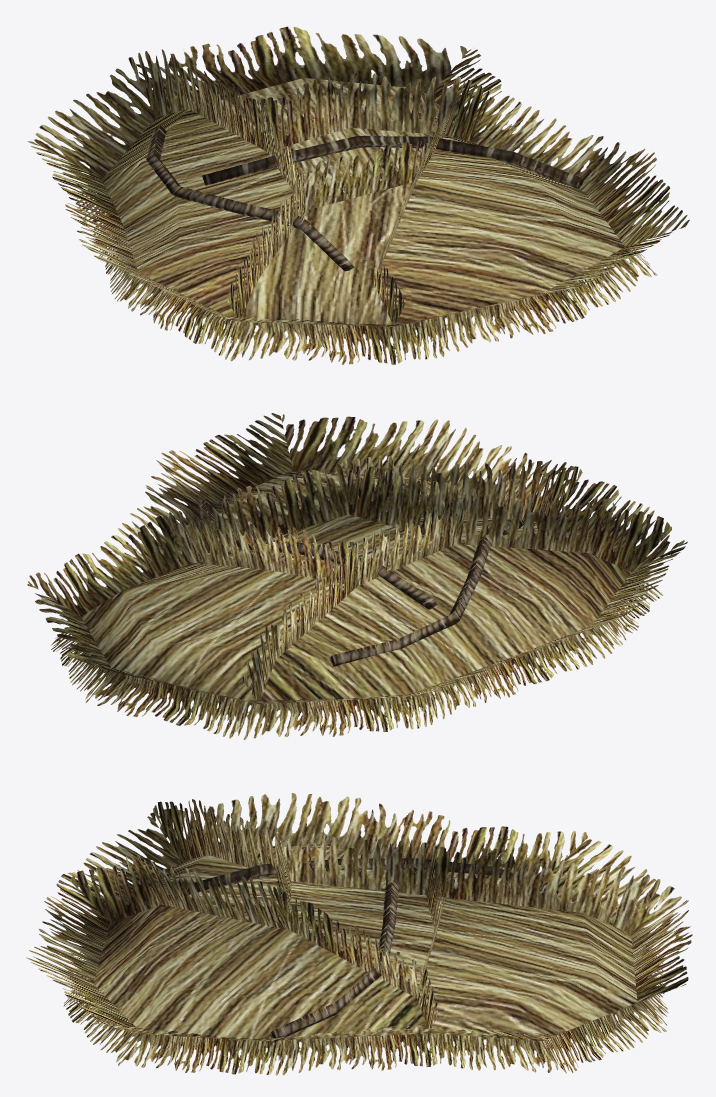
File: KM_STRAW_DESTROYED.glb
3 renders of one model, top to bottom at view 1: azimuth 30°, elevation 25°; view 2: azimuth 150°, elevation 25°; view 3: azimuth 270°, elevation 25°, orthographic. The views are drawn at different scales.
Visible parts, largest first — view 1: Mesh; view 2: Mesh; view 3: Mesh.
Part boxes in pixels (x1,y1,x2,y2): Mesh: (27, 26, 689, 364); Mesh: (27, 413, 687, 739); Mesh: (26, 793, 692, 1075).
Bounding box in the file's own units: 3.2 × 0.7883 × 3.56.
Materials: 2 (2 with a texture image).
